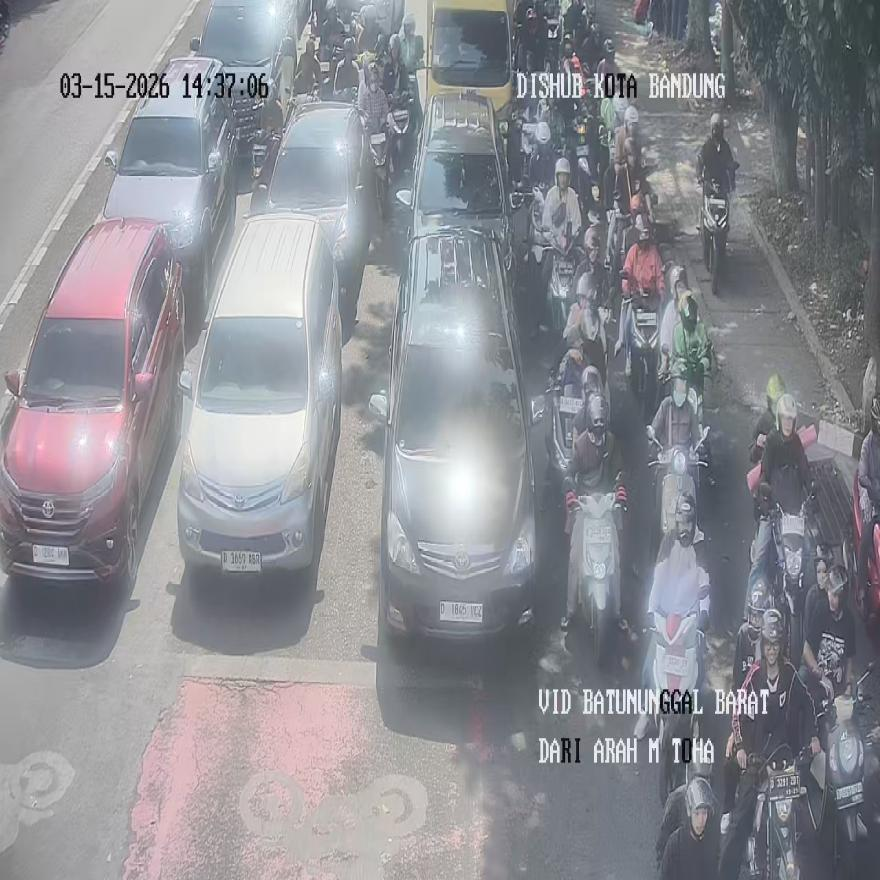Mobil: (368, 225, 537, 643), (0, 216, 185, 594), (176, 213, 342, 578), (99, 56, 234, 317), (248, 100, 379, 317), (397, 89, 523, 284), (188, 0, 296, 167)
Truk ringan: (418, 0, 517, 154)
